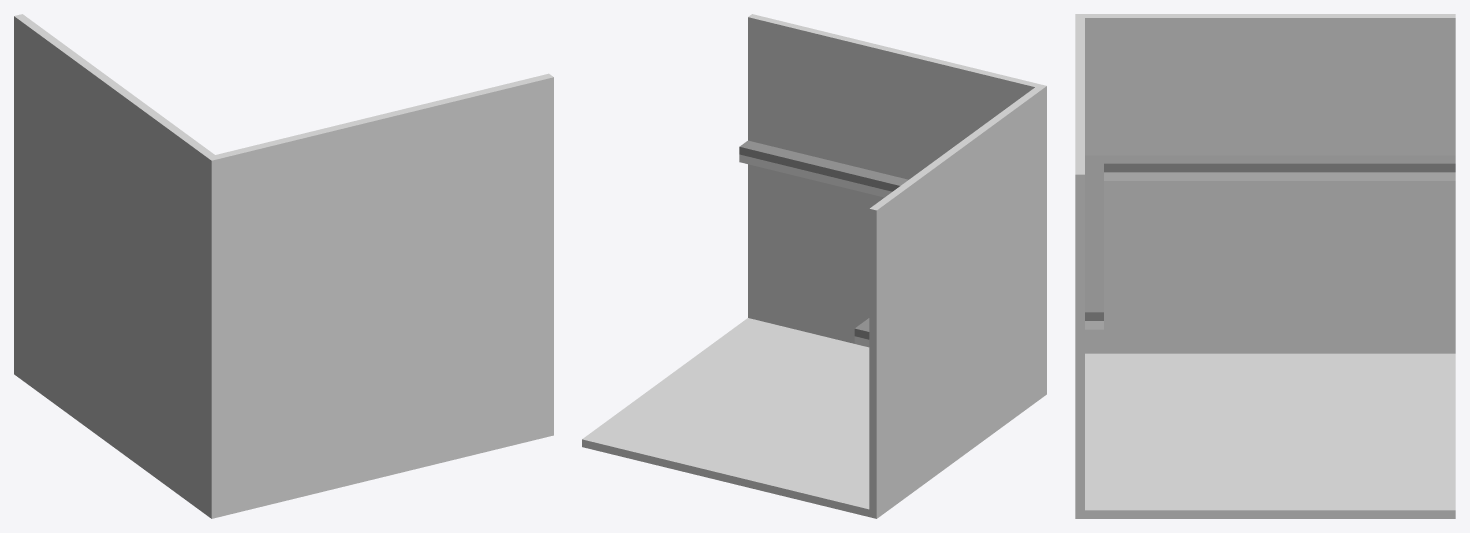
The model's file is corner_light.obj.
The picture shows the model from 3 angles, left to right: view 1: azimuth 30°, elevation 25°; view 2: azimuth 150°, elevation 25°; view 3: azimuth 270°, elevation 25°; orthographic projection. The views are drawn at different scales.
Size of the model in its own units: 4 by 4 by 4.
Materials: 1 (1 with a texture image).
